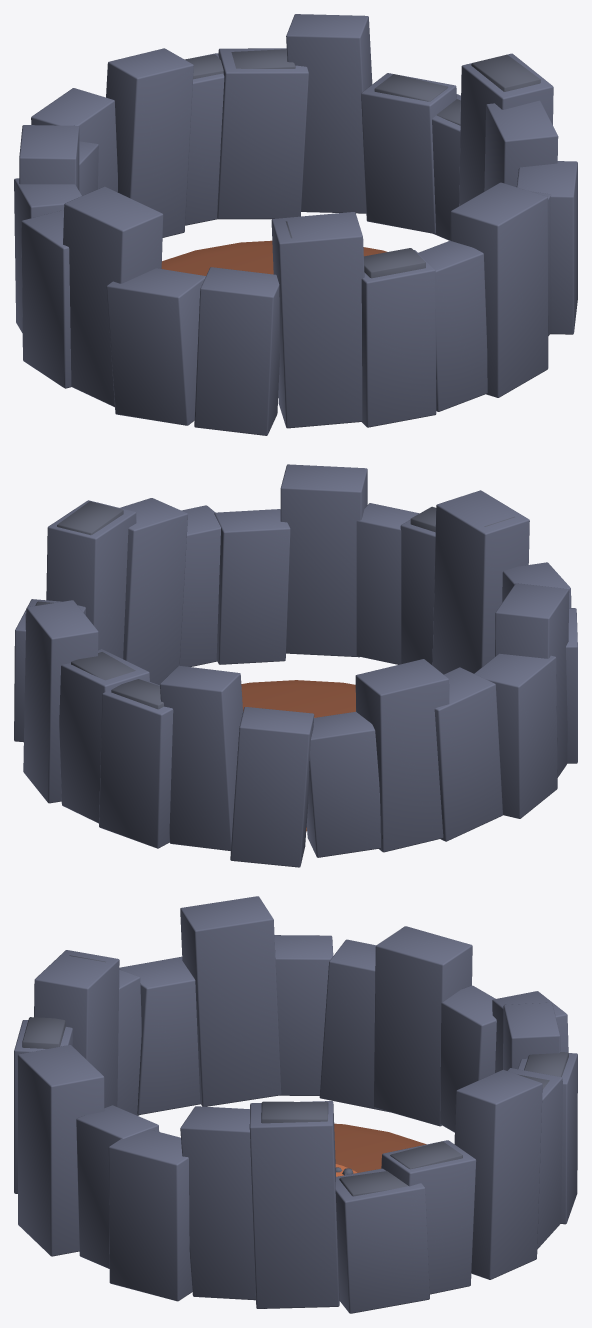
File: yoke_ox.glb
3 views of the same model, one above another, from view 1: azimuth 30°, elevation 25°; view 2: azimuth 150°, elevation 25°; view 3: azimuth 270°, elevation 25° (orthographic). The views are drawn at different scales.
Visible parts, largest first — view 1: YokeOxGround; view 2: YokeOxGround; view 3: YokeOxGround.
Part boxes in pixels (x1,y1,x2,y2): YokeOxGround: [14, 14, 577, 435]; YokeOxGround: [14, 464, 577, 867]; YokeOxGround: [14, 896, 577, 1313].
Bounding box in the file's own units: 46.38 × 17.32 × 45.78.
Materials: 1 (1 with a texture image).
